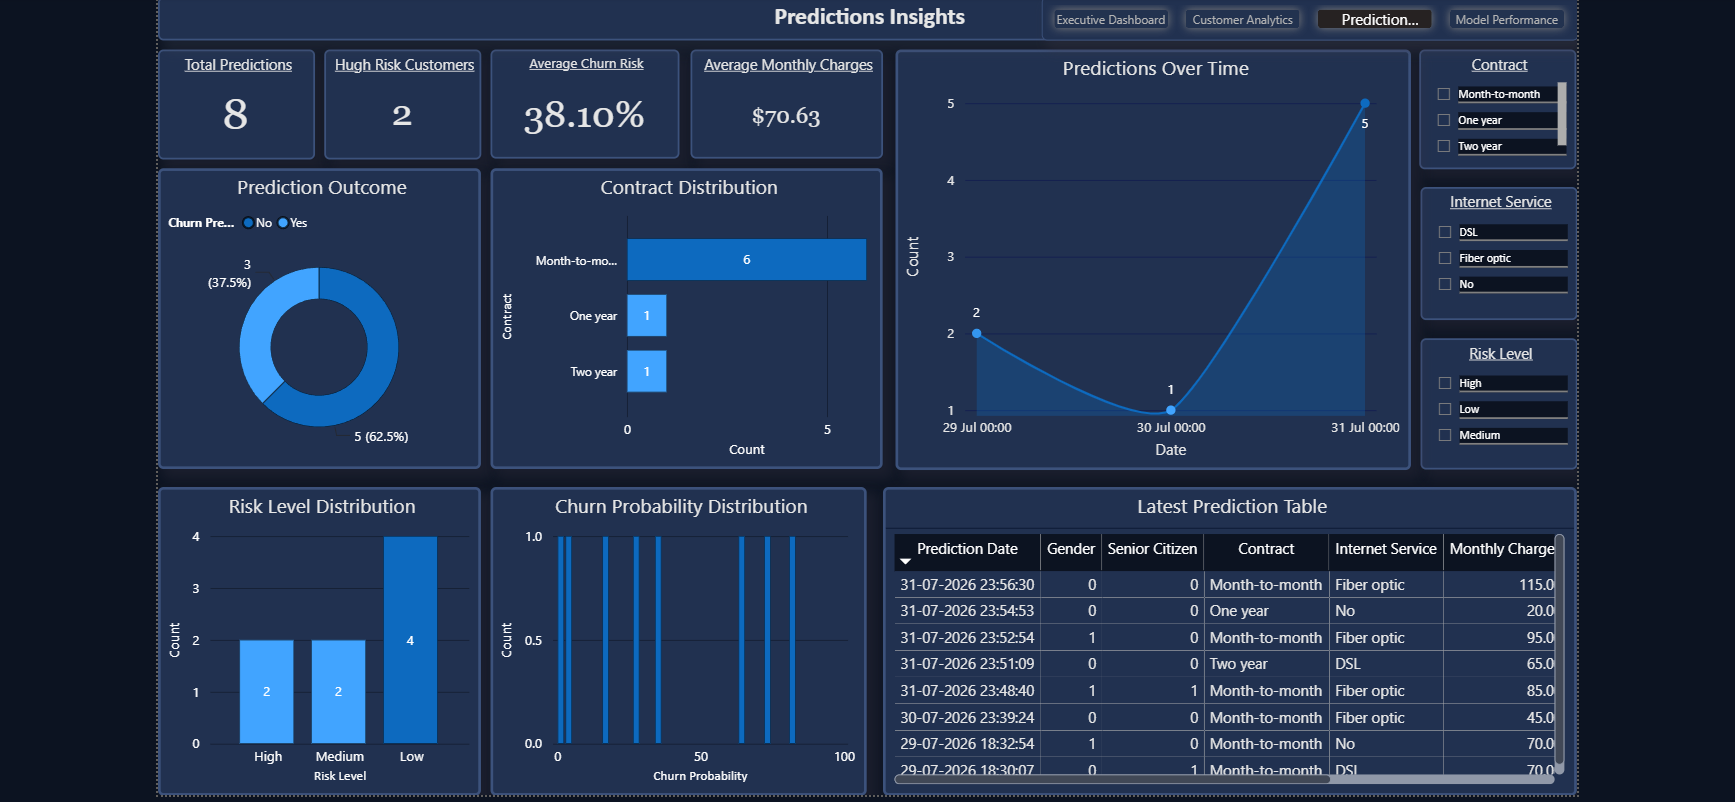

What the dashboard file says about the page in this screenshot:
{"tool":"powerbi","page":{"name":"Prediction Insights","canvas":[1280,720],"ordinal":2},"visuals":[{"type":"cardVisual","title":"Total Predictions","fields":{"Data":["Count(churn_predictions.prediction_id)"]},"box":[0,47.3,141.8,98.9],"z":0},{"type":"cardVisual","title":"Hugh Risk Customers","fields":{"Data":["Count(churn_predictions.prediction_id)"]},"box":[149.5,47.3,141.8,98.9],"z":1000},{"type":"cardVisual","title":"Average Churn Risk","fields":{"Data":["Avg(churn_predictions.ChurnProbability)"]},"box":[300,47.3,170,98.8],"z":2000},{"type":"cardVisual","title":"Average Monthly Charges","fields":{"Data":["Avg(churn_predictions.MonthlyCharges)"]},"box":[480.2,47.3,173.8,98.8],"z":3000},{"type":"clusteredColumnChart","title":"Risk Level Distribution","fields":{"Category":["churn_predictions.RiskLevel"],"Y":["CountNonNull(churn_predictions.prediction_id)"]},"box":[0,441.8,291.2,278],"z":4000},{"type":"donutChart","title":"Prediction Outcome","fields":{"Category":["churn_predictions.ChurnPrediction"],"Y":["CountNonNull(churn_predictions.prediction_id)"]},"box":[0,154.9,291.2,271.4],"z":5000},{"type":"clusteredColumnChart","title":"Churn Probability Distribution ","fields":{"Category":["churn_predictions.ChurnProbability"],"Y":["Count(churn_predictions.prediction_id)"]},"box":[300,441.8,339.6,278],"z":6000},{"type":"clusteredBarChart","title":"Contract Distribution ","fields":{"Category":["churn_predictions.Contract"],"Y":["Count(churn_predictions.prediction_id)"]},"box":[300,154.9,353.8,271.4],"z":7000},{"type":"tableEx","title":"Latest Prediction Table","fields":{"Values":["churn_predictions.prediction_date","churn_predictions.gender","churn_predictions.SeniorCitizen","churn_predictions.Contract","churn_predictions.InternetService","churn_predictions.MonthlyCharges","churn_predictions.ChurnProbability","churn_predictions.RiskLevel","churn_predictions.ChurnPrediction"]},"box":[653.8,441.8,625.3,278],"z":8000},{"type":"slicer","title":"Contract","fields":{"Values":["churn_predictions.Contract"]},"box":[1137.4,47.3,141.8,107.7],"z":9000},{"type":"slicer","title":"Internet Service","fields":{"Values":["churn_predictions.InternetService"]},"box":[1138.5,171.4,141.8,119.8],"z":10000},{"type":"slicer","title":"Risk Level","fields":{"Values":["churn_predictions.RiskLevel"]},"box":[1138.5,307.7,141.8,118.7],"z":11000},{"type":"lineChart","title":"Predictions Over Time","fields":{"Category":["churn_predictions.prediction_date.Variation.Date Hierarchy.Year","churn_predictions.prediction_date.Variation.Date Hierarchy.Month","churn_predictions.prediction_date.Variation.Date Hierarchy.Day"],"Y":["CountNonNull(churn_predictions.prediction_id)"]},"box":[664.8,47.3,464.8,379.1],"z":12000},{"type":"textbox","title":"Predictions Insights","box":[0,0,1280.2,39.6],"z":13000},{"type":"pageNavigator","box":[796.5,0,483.7,39.5],"z":13001}]}

Visuals, with their boxes on the page's 1280x720 design canvas (x1, y1, x2, y2). These are canvas units, not pixel positions in the 1735x802 screenshot, which may show the page scaled, cropped or inside an application window:
"Total Predictions" cardVisual: 0, 47, 142, 146
"Hugh Risk Customers" cardVisual: 150, 47, 291, 146
"Average Churn Risk" cardVisual: 300, 47, 470, 146
"Average Monthly Charges" cardVisual: 480, 47, 654, 146
"Risk Level Distribution" clusteredColumnChart: 0, 442, 291, 720
"Prediction Outcome" donutChart: 0, 155, 291, 426
"Churn Probability Distribution " clusteredColumnChart: 300, 442, 640, 720
"Contract Distribution " clusteredBarChart: 300, 155, 654, 426
"Latest Prediction Table" tableEx: 654, 442, 1279, 720
"Contract" slicer: 1137, 47, 1279, 155
"Internet Service" slicer: 1138, 171, 1280, 291
"Risk Level" slicer: 1138, 308, 1280, 426
"Predictions Over Time" lineChart: 665, 47, 1130, 426
"Predictions Insights" textbox: 0, 0, 1280, 40
pageNavigator: 796, 0, 1280, 40
